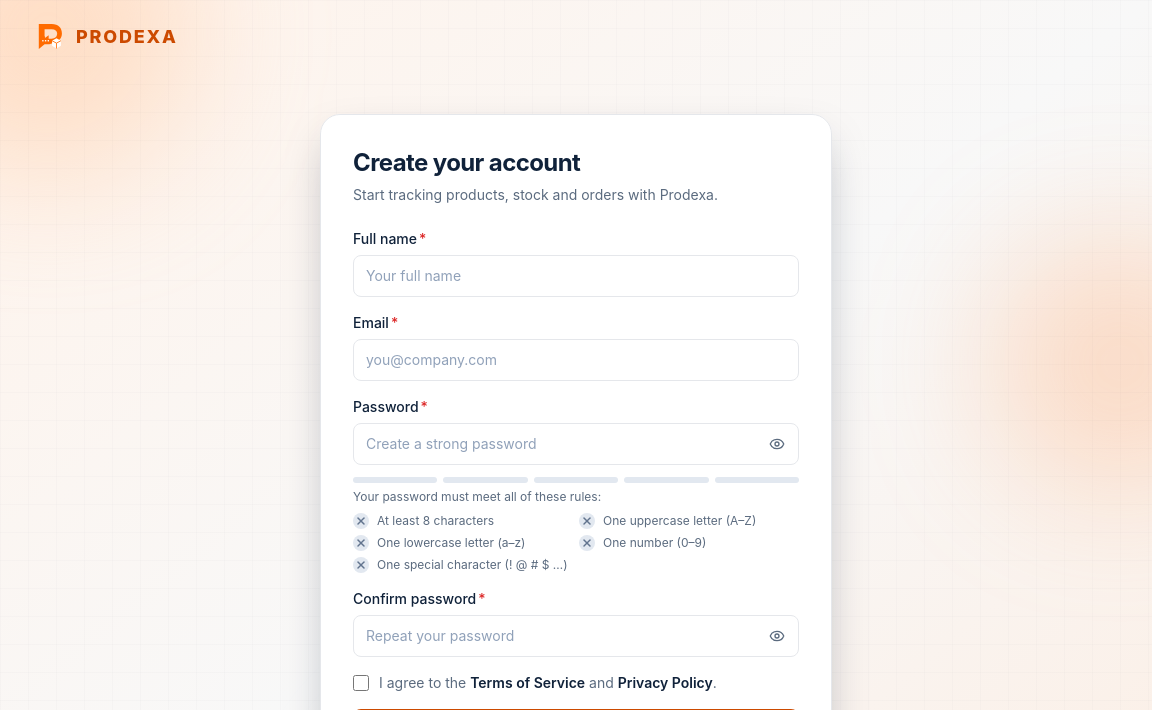
Register page › shows the server error (e.g. email already used)
Type "Nour Ahmed" into the field labelled "Full name*". click: (576, 276)
box: [353,255,799,297]
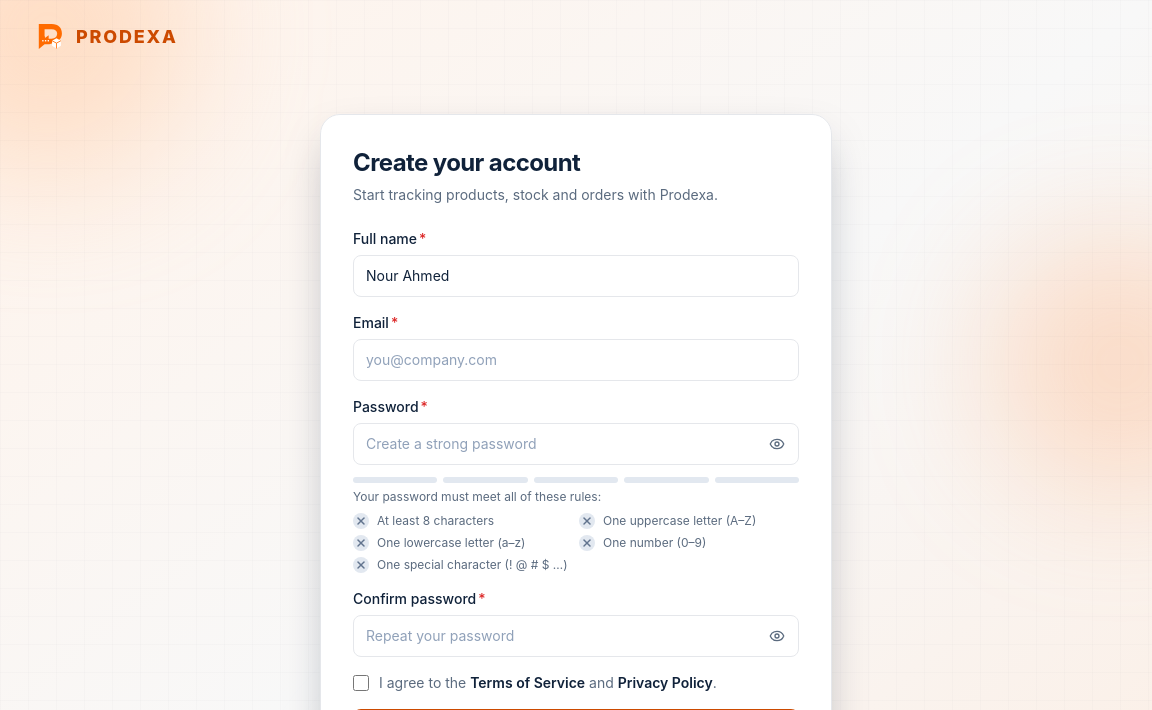
Type "nour@prodexa.com" into the field labelled "Email*". click: (576, 360)
box: [353,339,799,381]
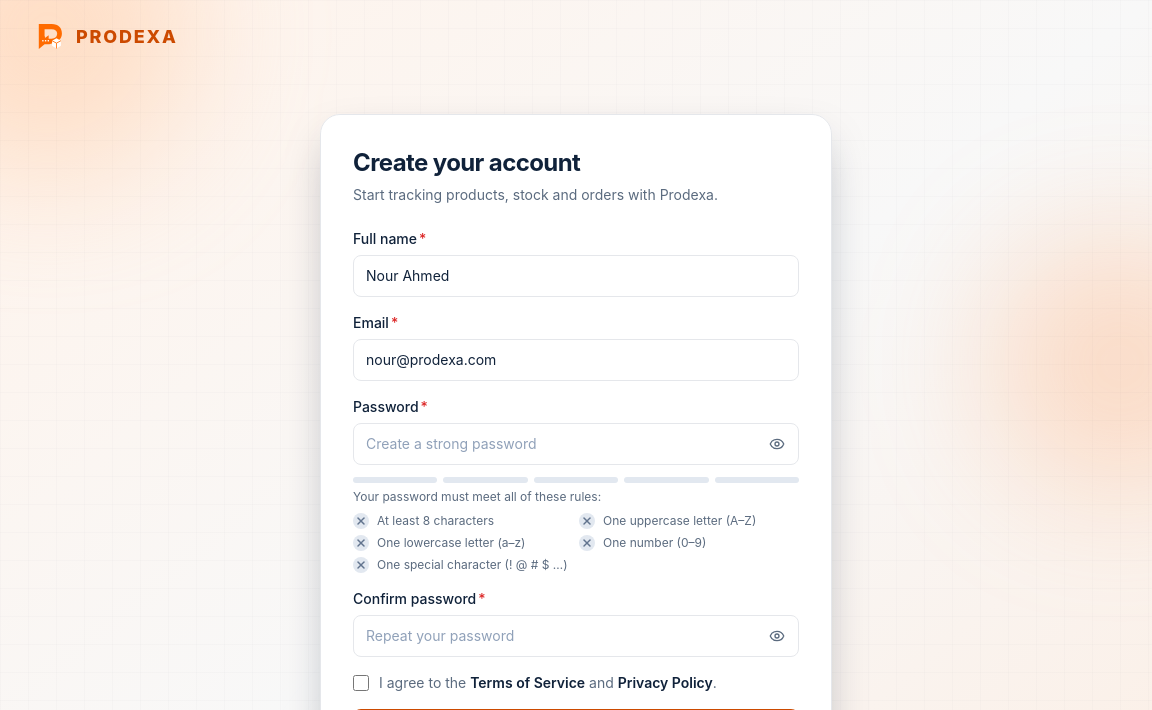
Type "Strong#Pass1" into the password field labelled "Password*". click: (576, 444)
box: [353,423,799,465]
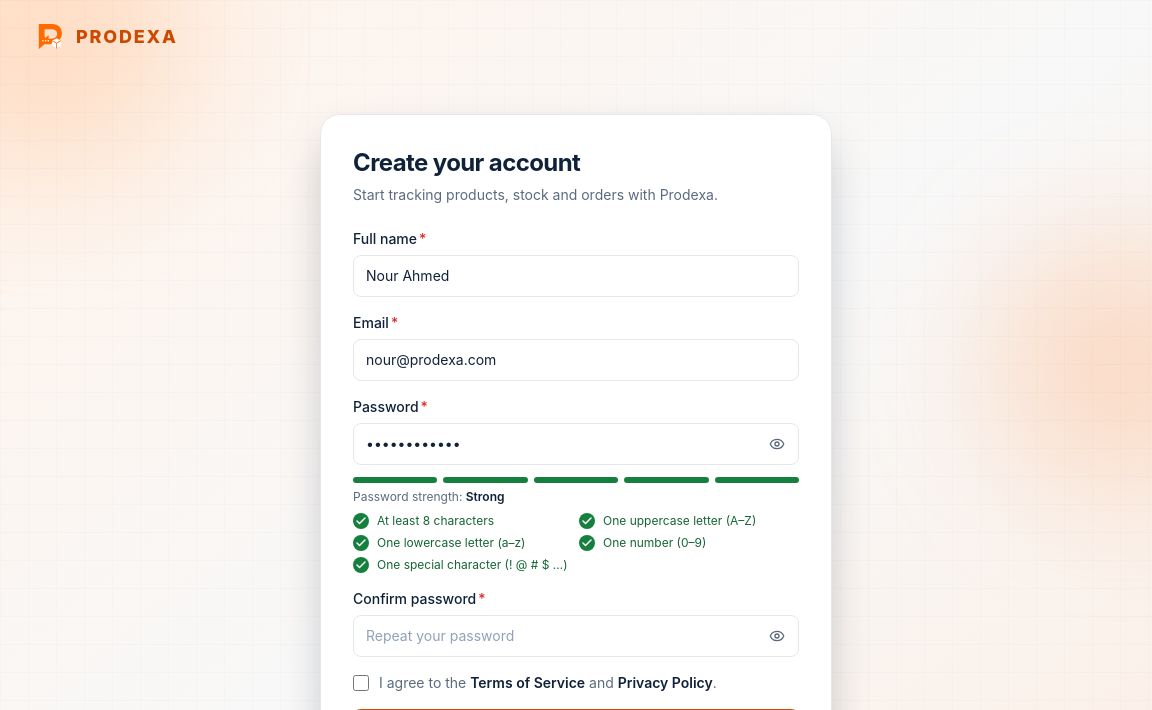
Type "Strong#Pass1" into the password field labelled "Confirm password*". click: (576, 636)
box: [353,615,799,657]
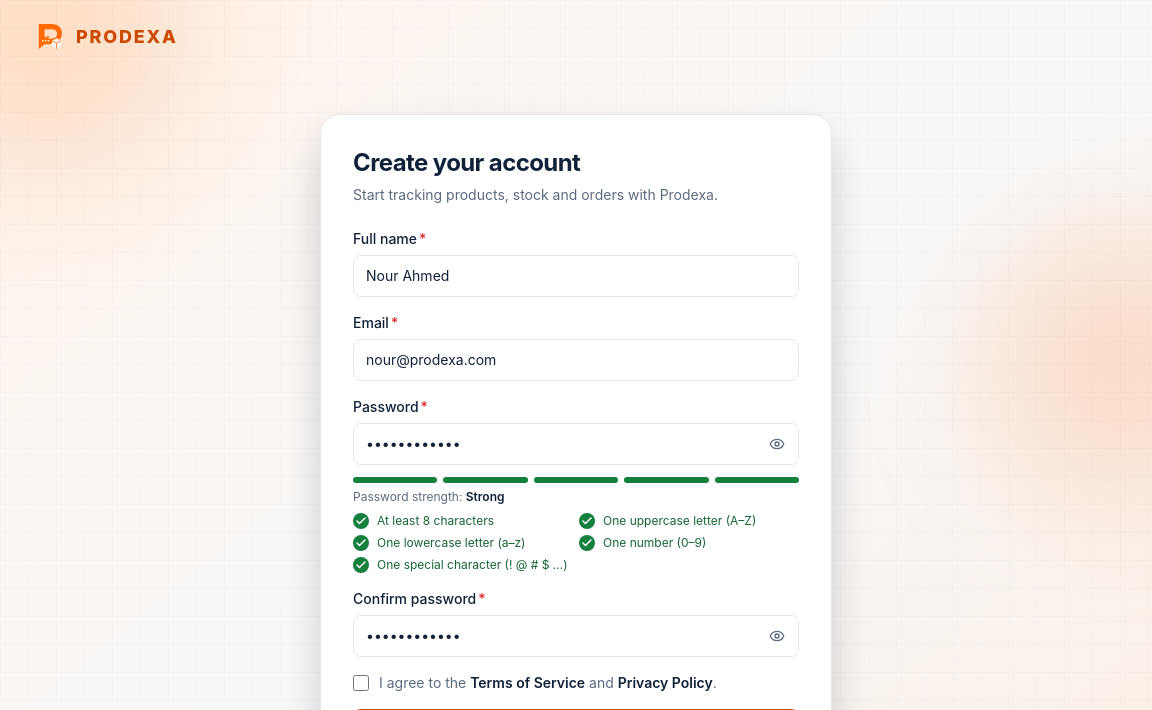
Click the checkbox. click: (361, 683)
box: [353,675,369,691]
(page scrolled)
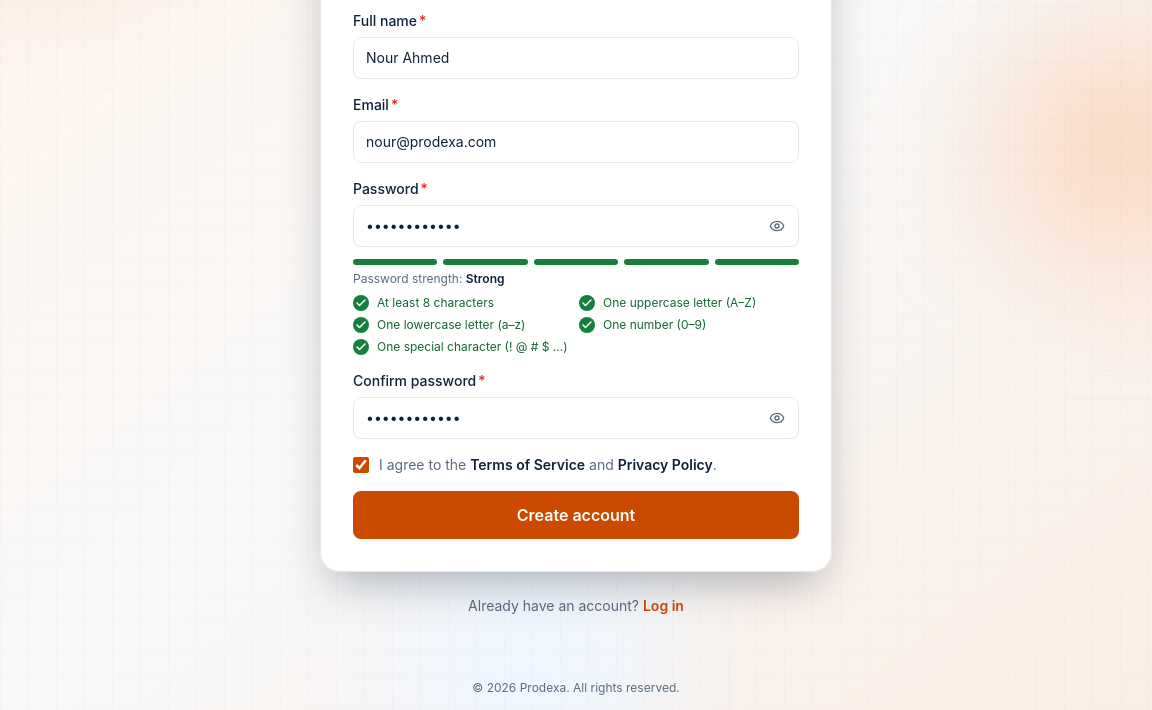
Click the button "Create account". click: (576, 515)
box: [353,491,799,539]
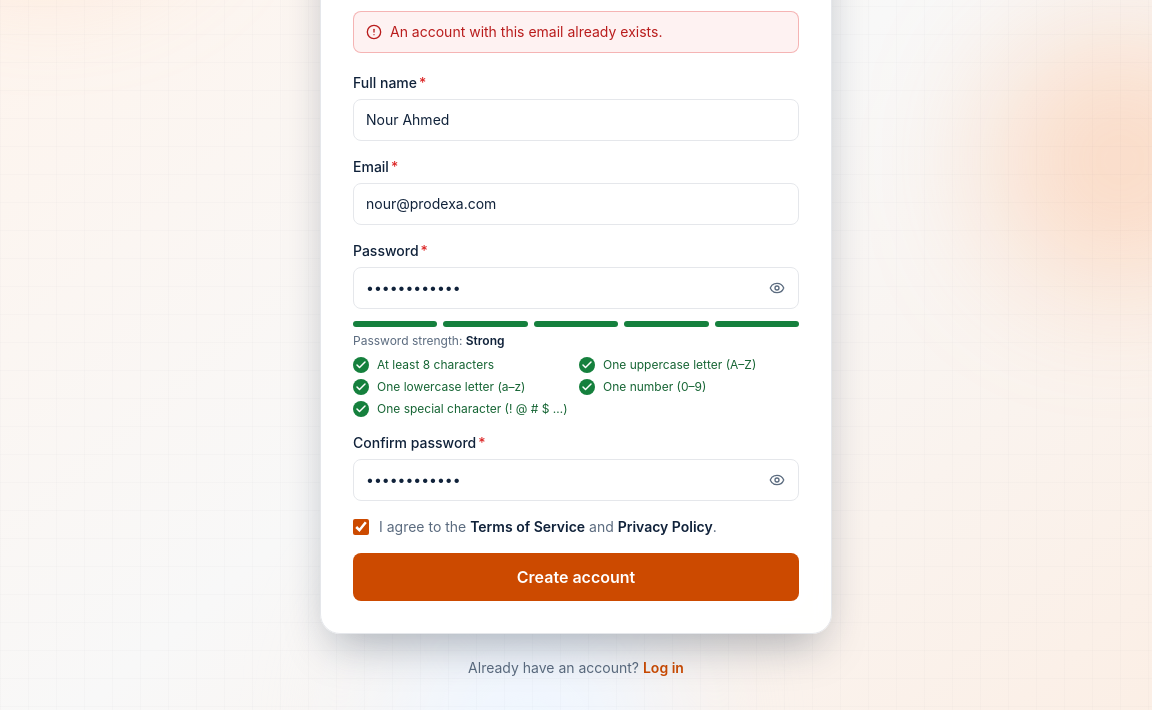
Expected: the message reads "An account with this email already exists.", [390,23,662,40]
